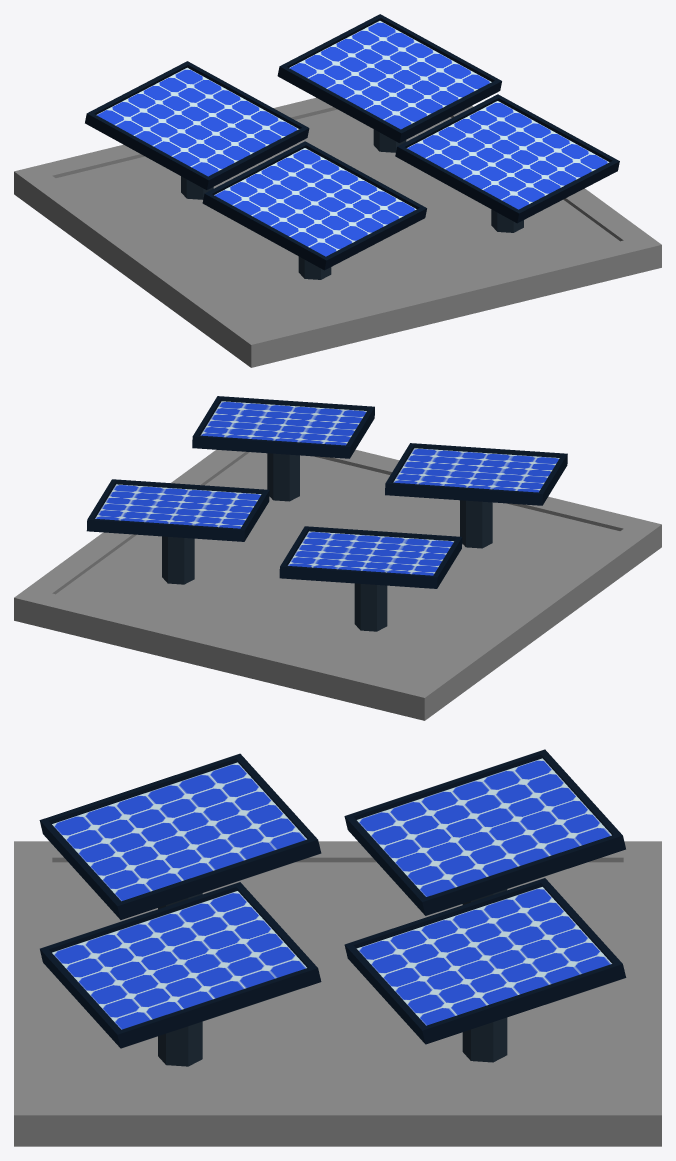
The model's file is SolarPanel_Model.fbx.
3 views of the same model, one above another, from view 1: azimuth 30°, elevation 25°; view 2: azimuth 150°, elevation 25°; view 3: azimuth 270°, elevation 25° (orthographic). The views are drawn at different scales.
Visible parts, largest first — view 1: pCube7, pCube10, pCube12, pCube13, pCube11; view 2: pCube7, pCube11, pCube13, pCube10, pCube12; view 3: pCube7, pCube13, pCube12, pCube11, pCube10.
Part boxes in pixels (x1=…): pCube7: x1=14, y1=97, x2=661, y2=367; pCube10: x1=202, y1=141, x2=426, y2=279; pCube12: x1=395, y1=94, x2=619, y2=232; pCube13: x1=277, y1=14, x2=501, y2=152; pCube11: x1=85, y1=61, x2=309, y2=199; pCube7: x1=14, y1=449, x2=661, y2=720; pCube11: x1=279, y1=526, x2=462, y2=631; pCube13: x1=86, y1=479, x2=269, y2=584; pCube10: x1=385, y1=443, x2=567, y2=548; pCube12: x1=192, y1=396, x2=374, y2=501; pCube7: x1=14, y1=841, x2=661, y2=1146; pCube13: x1=344, y1=878, x2=626, y2=1062; pCube12: x1=40, y1=882, x2=321, y2=1066; pCube11: x1=344, y1=749, x2=625, y2=915; pCube10: x1=39, y1=753, x2=321, y2=919.
Size of the model in its own units: 22.06 by 5.39 by 22.06.
